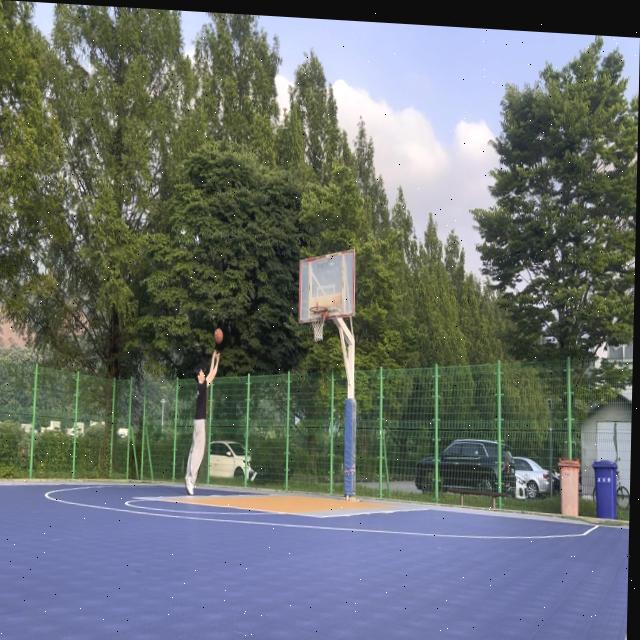basketball: (214, 328, 224, 345)
hoop: (309, 305, 328, 343)
